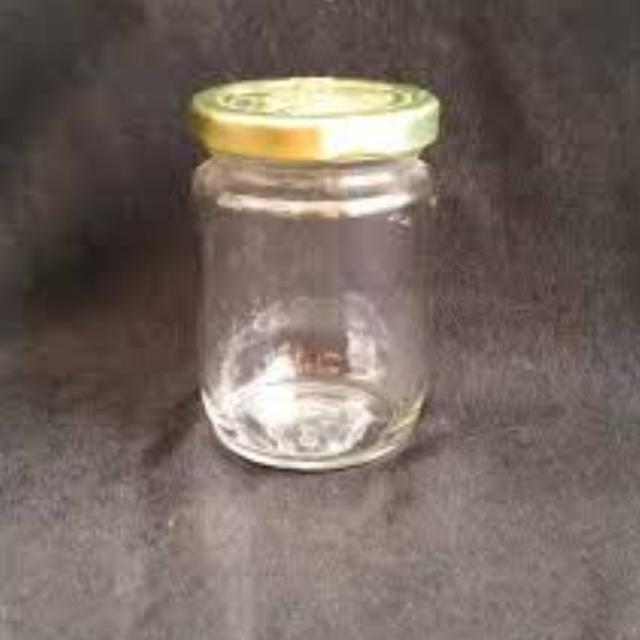ToplesKaca: (184, 72, 445, 473)
